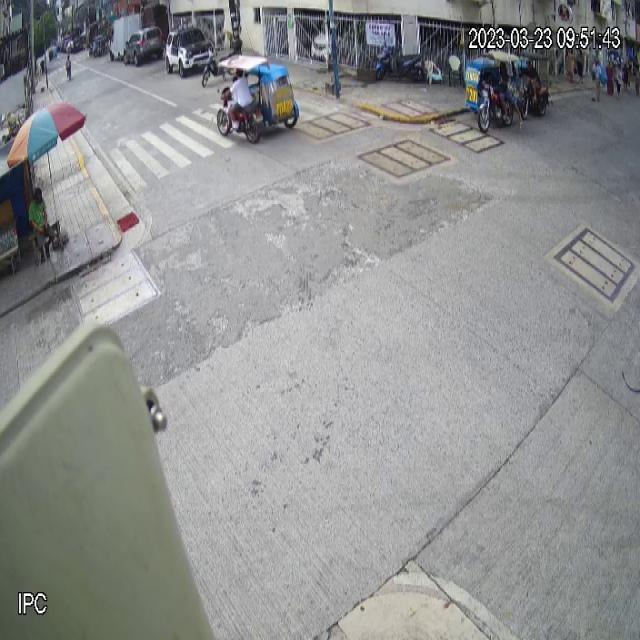Tricycle: (216, 52, 299, 145), (465, 51, 520, 133)
